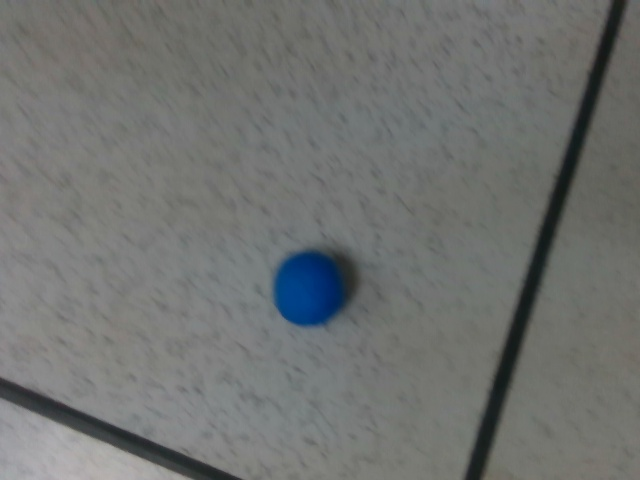blueball: (269, 248, 347, 330)
